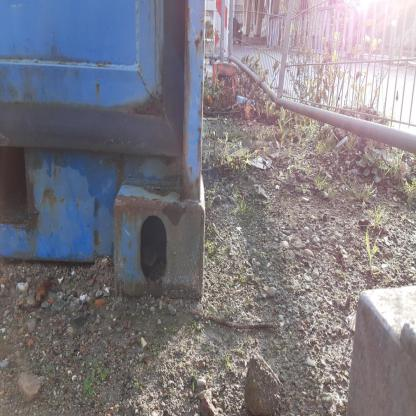CornerCasting: (111, 176, 212, 302)
